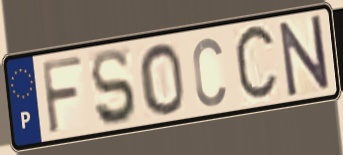C: (232, 20, 281, 108), (190, 35, 228, 110)
F: (39, 53, 85, 137)
N: (276, 12, 332, 100)
O: (137, 40, 187, 117)
S: (89, 46, 139, 129)
